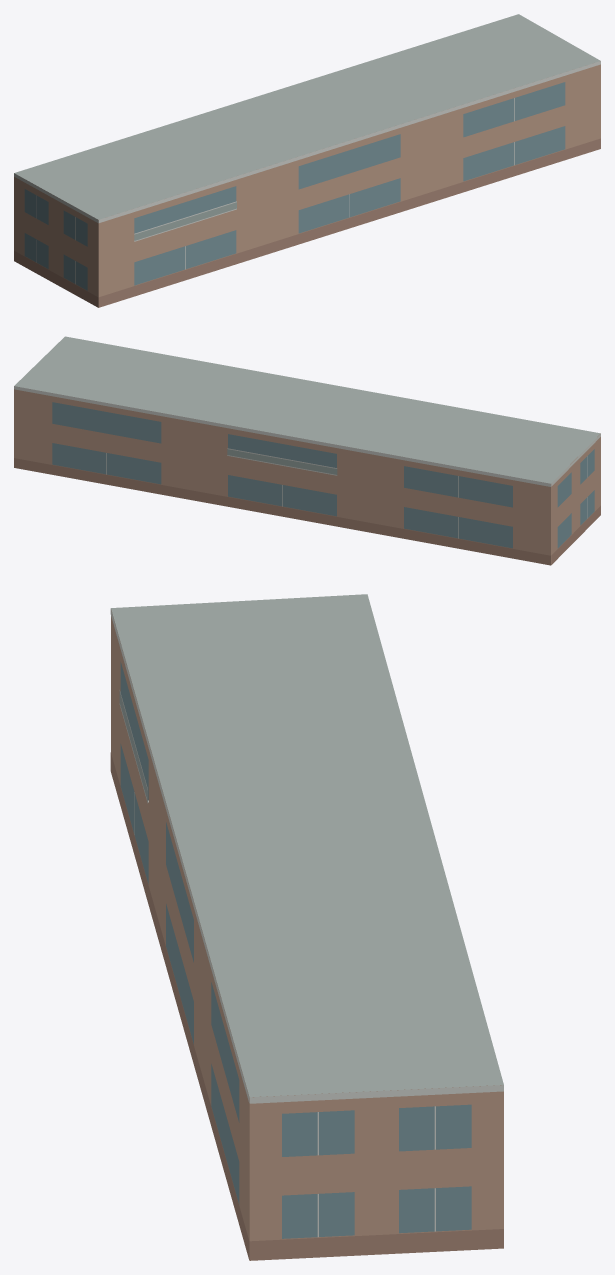
File: survey-upis-32791411.glb
The picture shows the model from 3 angles, top to bottom: view 1: azimuth 30°, elevation 25°; view 2: azimuth 150°, elevation 25°; view 3: azimuth 270°, elevation 25°; orthographic projection. The views are drawn at different scales.
Visible parts, largest first — view 1: survey-upis-32791411.tmp; view 2: survey-upis-32791411.tmp; view 3: survey-upis-32791411.tmp.
Part boxes in pixels (bbox=[...]): survey-upis-32791411.tmp: bbox=[14, 14, 600, 307]; survey-upis-32791411.tmp: bbox=[14, 336, 600, 565]; survey-upis-32791411.tmp: bbox=[110, 594, 503, 1260].
Bounding box in the file's own units: 40.27 × 6.1 × 13.3.
